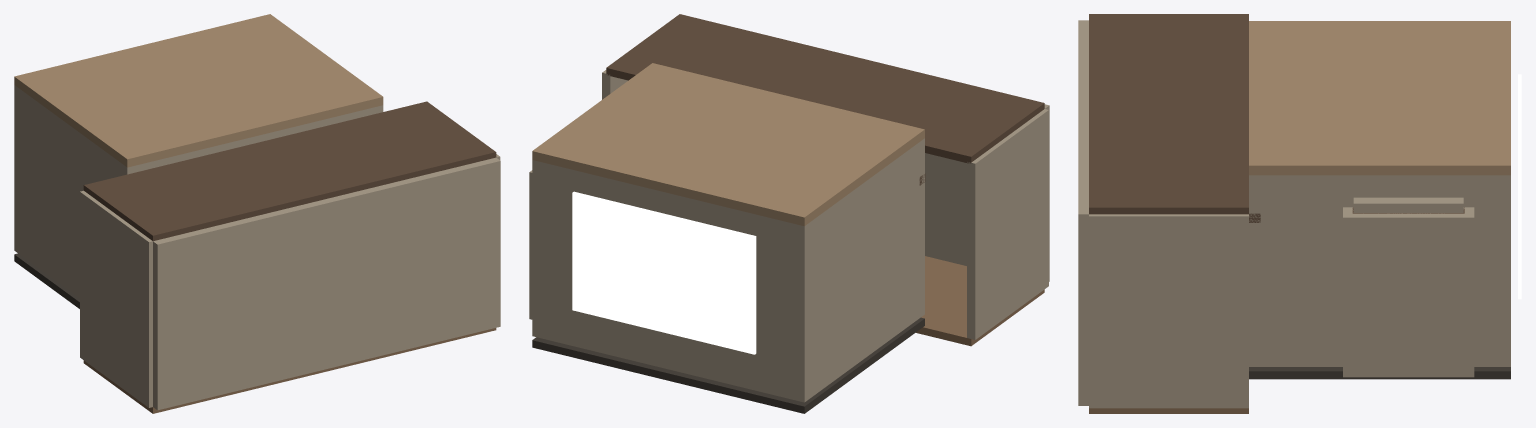
File: izakaya_room_with_corridor.glb
3 renders of one model, left to right at view 1: azimuth 30°, elevation 25°; view 2: azimuth 150°, elevation 25°; view 3: azimuth 270°, elevation 25°, orthographic. The views are drawn at different scales.
Visible parts, largest first — view 1: Corridor_BackWall, Ceiling, Corridor_Ceil, Corridor_SideWall_-1, WallW, WallS_Top, Corridor_Floor, Floor_Base; view 2: Ceiling, Corridor_Ceil, Window_Backdrop, WallW, Corridor_SideWall_-1, WallN_Below, WallN_Above, WallN_Side_L, Floor_Base, Corridor_BackWall, Corridor_Floor, WallN_Side_R (+2 smaller); view 3: Ceiling, Corridor_Ceil, Corridor_SideWall_1, Alcove_Back, WallE_Front, WallE_Back, Corridor_BackWall, WallE_AboveAlcove, Floor_Base, Alcove_Ceil, WallS_Side_R, WallN_Side_R (+4 smaller).
Part boxes in pixels (x1,y1,x2,y2): Corridor_BackWall: [153, 157, 500, 410]; Ceiling: [14, 14, 383, 167]; Corridor_Ceil: [83, 101, 496, 241]; Corridor_SideWall_-1: [80, 190, 152, 407]; WallW: [14, 88, 135, 298]; WallS_Top: [123, 107, 383, 173]; Corridor_Floor: [83, 328, 496, 413]; Floor_Base: [14, 253, 79, 308]; Ceiling: [532, 63, 924, 226]; Corridor_Ceil: [606, 14, 1044, 163]; Window_Backdrop: [572, 191, 756, 354]; WallW: [796, 140, 924, 402]; Corridor_SideWall_-1: [967, 109, 1048, 339]; WallN_Below: [532, 281, 809, 402]; WallN_Above: [532, 160, 809, 258]; WallN_Side_L: [756, 247, 809, 347]; Floor_Base: [532, 317, 924, 413]; Corridor_BackWall: [925, 104, 1049, 281]; Corridor_Floor: [916, 256, 1044, 346]; WallN_Side_R: [532, 193, 572, 290]; Ceiling: [1249, 21, 1510, 175]; Corridor_Ceil: [1089, 14, 1248, 214]; Corridor_SideWall_1: [1089, 214, 1248, 408]; Alcove_Back: [1343, 213, 1474, 377]; WallE_Front: [1249, 175, 1353, 366]; WallE_Back: [1463, 175, 1510, 366]; Corridor_BackWall: [1078, 20, 1088, 405]; WallE_AboveAlcove: [1353, 175, 1463, 197]; Floor_Base: [1249, 367, 1510, 379]; Alcove_Ceil: [1353, 197, 1463, 212]; WallS_Side_R: [1249, 223, 1259, 366]; WallN_Side_R: [1500, 211, 1510, 306].
Bounding box in the file's own units: 5.32 × 2.8 × 5.02.
